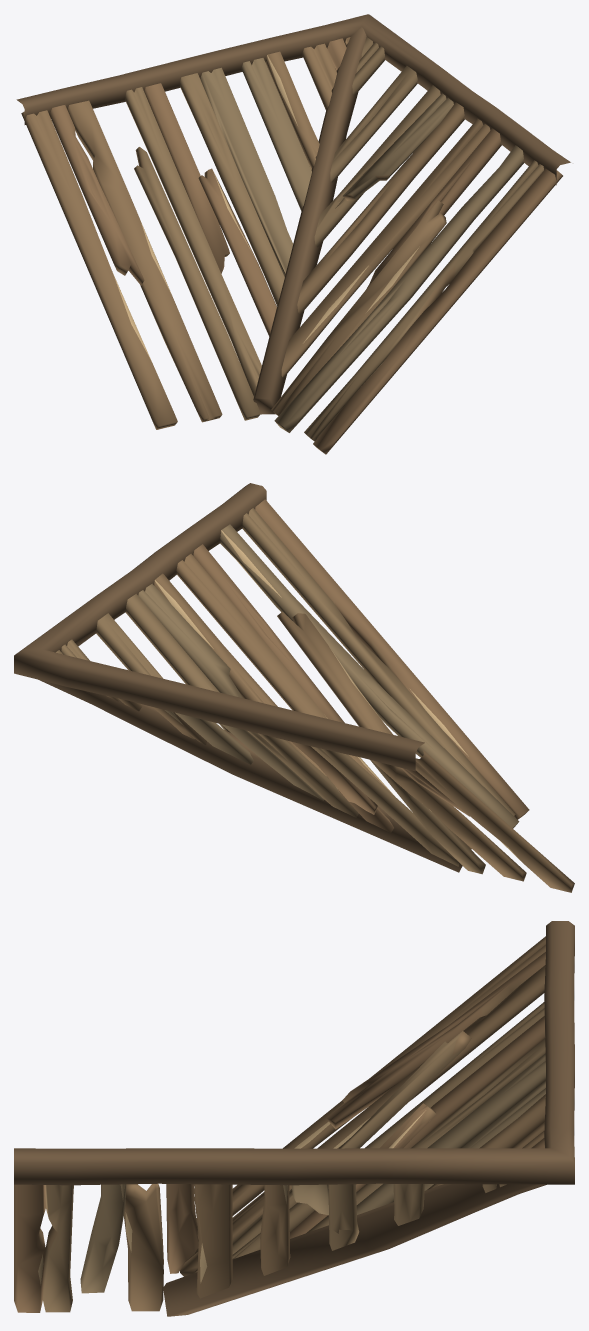
The model's file is rpgpp_av_roof_02_9x4x3_corner_01.gltf.
3 views of the same model, one above another, from view 1: azimuth 30°, elevation 25°; view 2: azimuth 150°, elevation 25°; view 3: azimuth 270°, elevation 25° (orthographic). The views are drawn at different scales.
Visible parts, largest first — view 1: rpgpp_av_roof_02_9x4x3_corner_01; view 2: rpgpp_av_roof_02_9x4x3_corner_01; view 3: rpgpp_av_roof_02_9x4x3_corner_01.
Part boxes in pixels (x1,y1,x2,y2): rpgpp_av_roof_02_9x4x3_corner_01: (16,14,570,454); rpgpp_av_roof_02_9x4x3_corner_01: (14,483,574,892); rpgpp_av_roof_02_9x4x3_corner_01: (14,921,574,1316).
Bounding box in the file's own units: 0.077 × 0.0492 × 0.077.
1 material, 1 textured.
